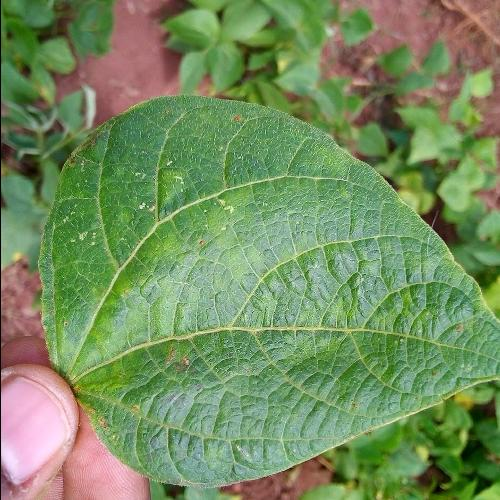embun tepung: (24, 107, 442, 448)
